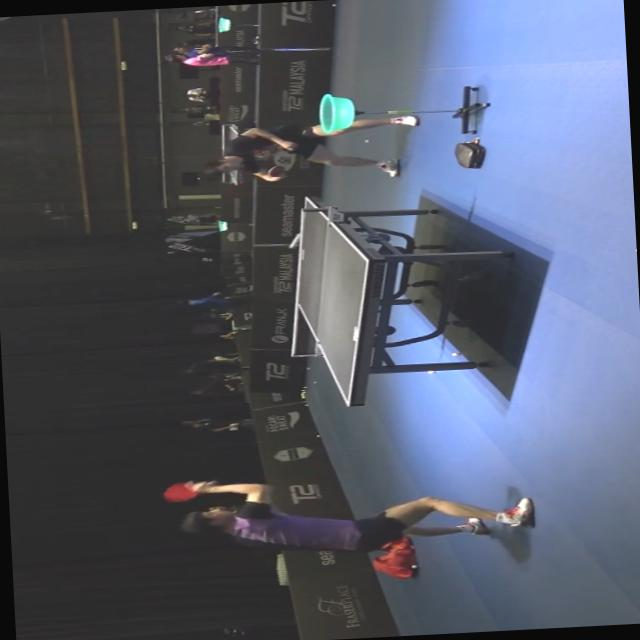TT Net: (289, 201, 339, 360), (222, 123, 234, 183)
TT Racket: (162, 478, 218, 503), (268, 164, 293, 181)
TT Table: (287, 195, 377, 406)
